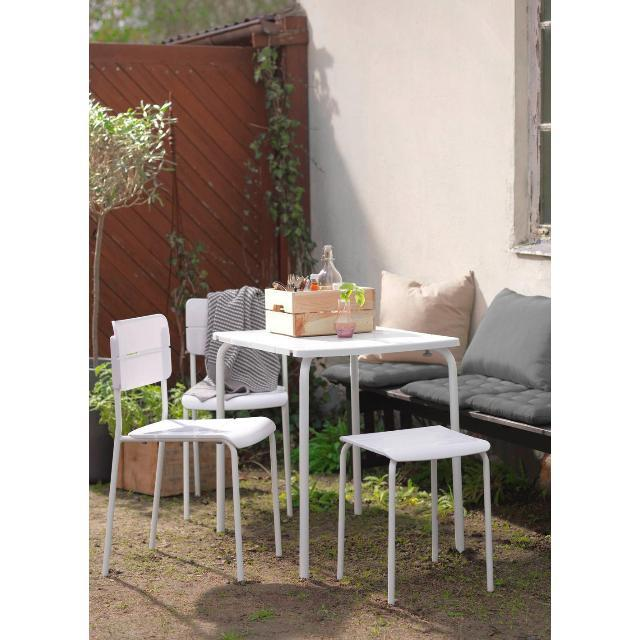chair: (102, 314, 283, 583)
pillow: (462, 289, 552, 391), (379, 271, 475, 364), (468, 389, 552, 425)
plant: (89, 98, 173, 482)
stool: (338, 425, 494, 604)
table: (214, 328, 460, 579), (454, 460, 465, 551), (354, 449, 363, 515)
